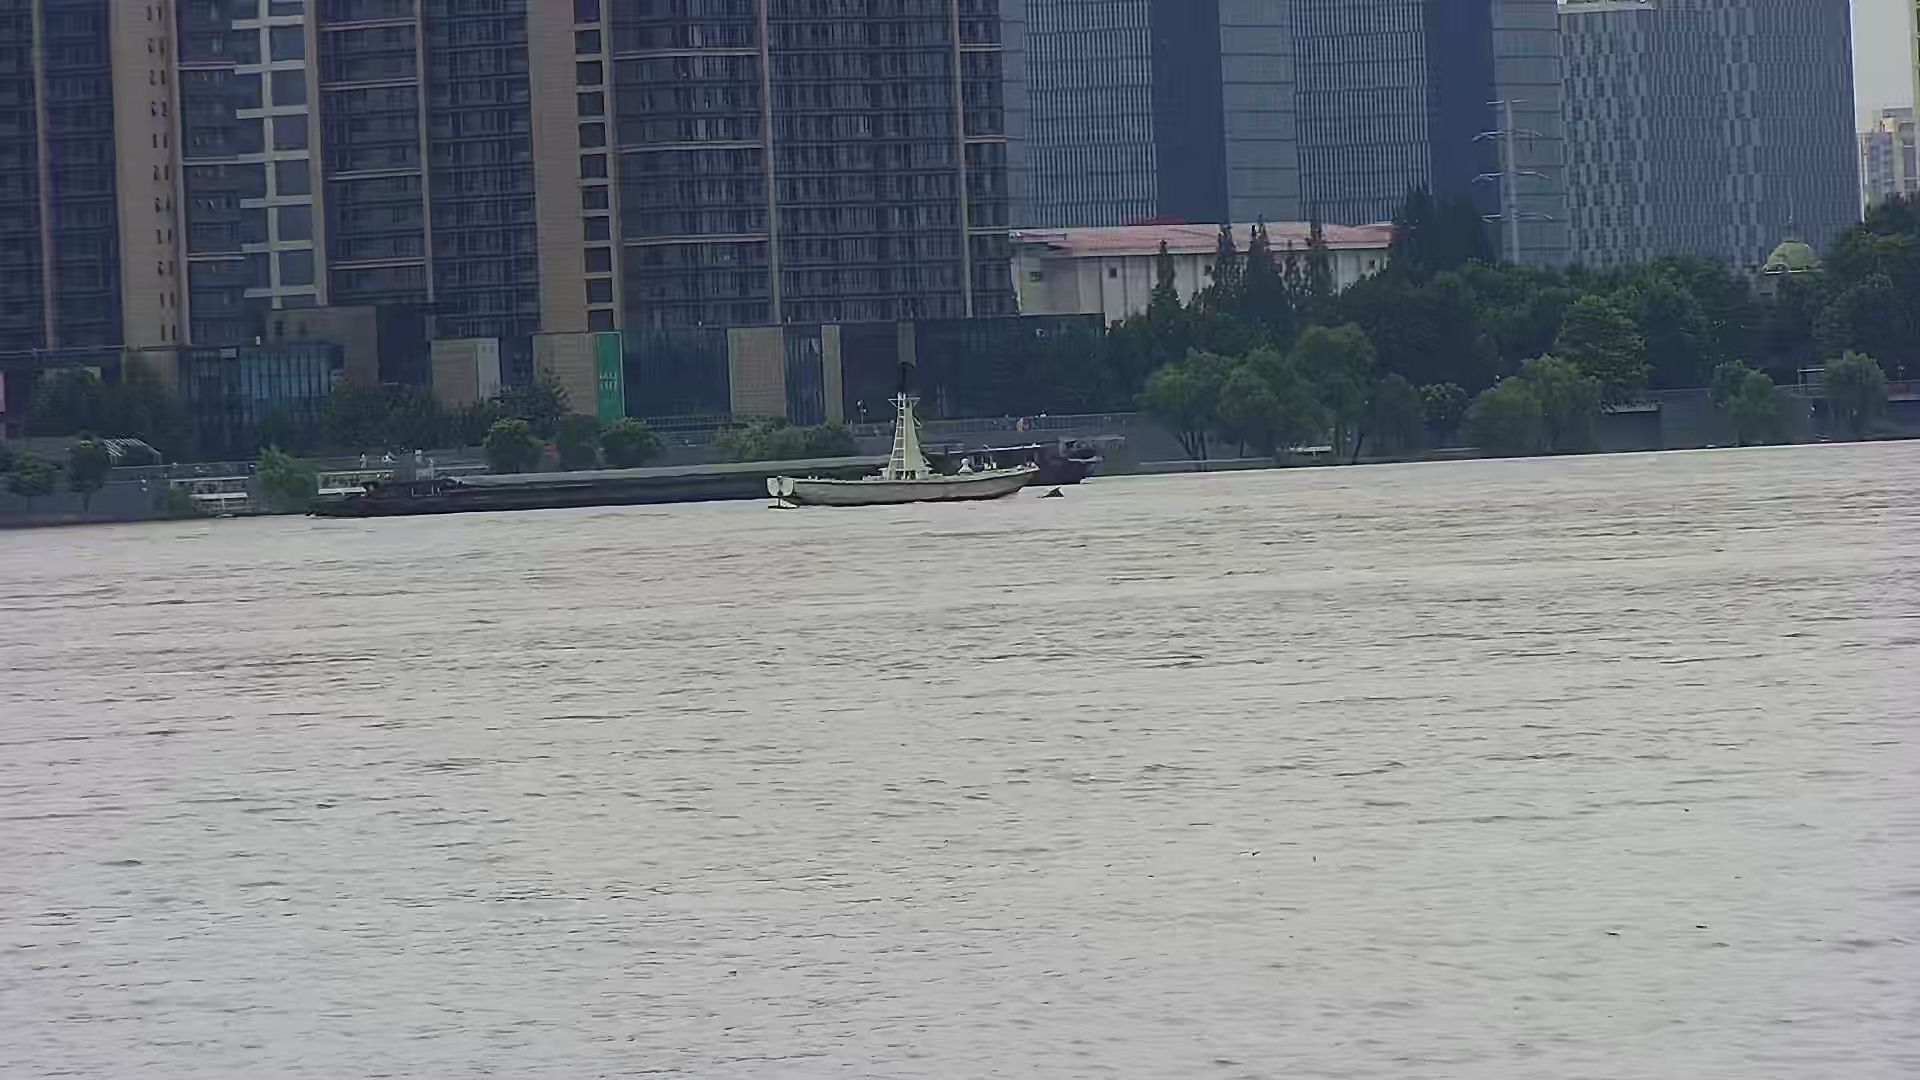boat: (765, 357, 1036, 506)
ship: (311, 435, 1125, 516)
